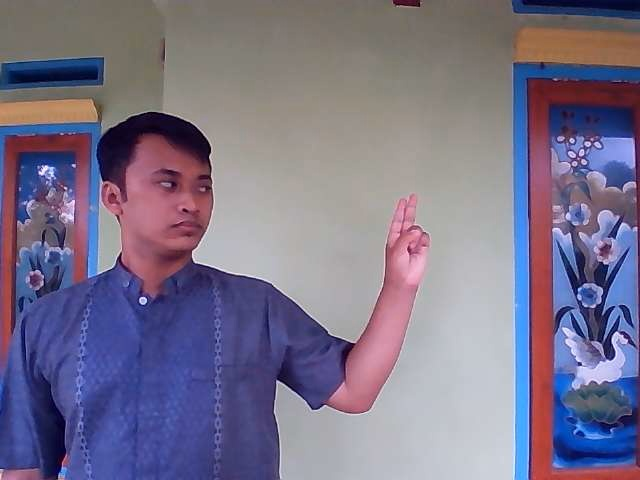U: (382, 191, 434, 296)
